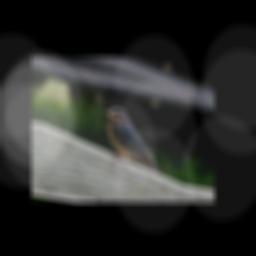Swallow: (90, 105, 178, 177)
